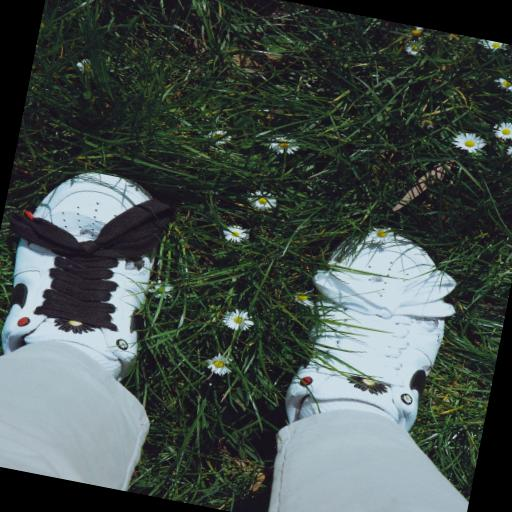shoe: (2, 173, 174, 380), (286, 230, 455, 430)
